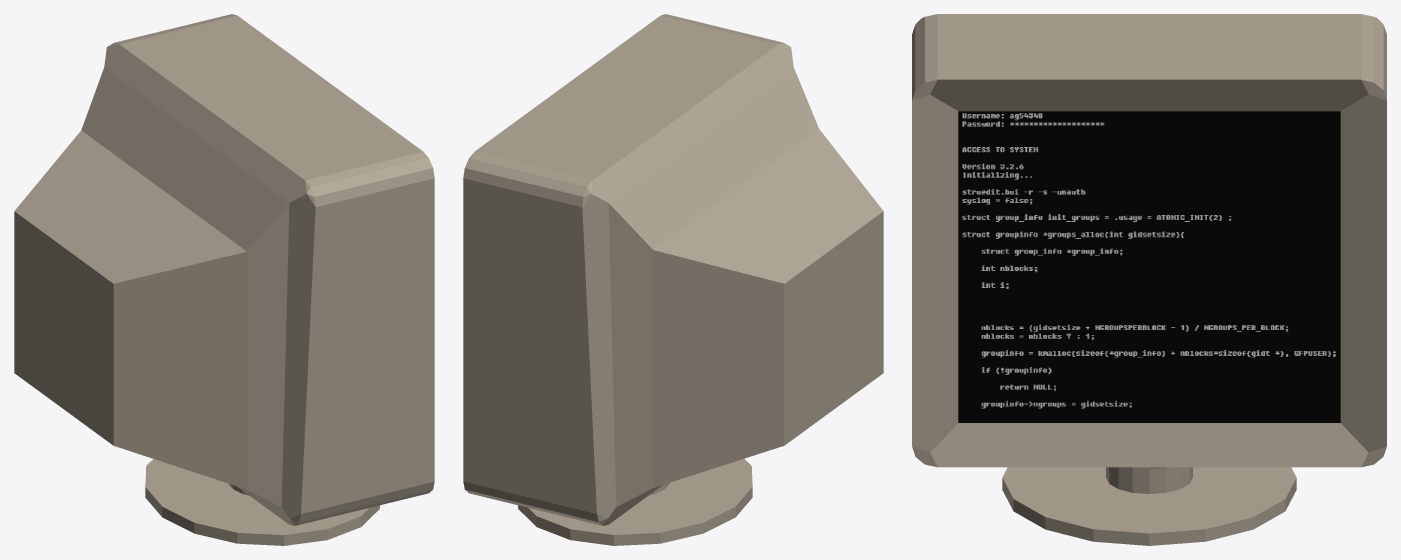
File: crt_monitor.fbx
3 views of the same model, side by side, from view 1: azimuth 30°, elevation 25°; view 2: azimuth 150°, elevation 25°; view 3: azimuth 270°, elevation 25° (orthographic). The views are drawn at different scales.
Visible parts, largest first — view 1: Monitor; view 2: Monitor; view 3: Monitor.
Boxes of the visible parts, left/top/right/bottom form: Monitor: left=14, top=14, right=434, bottom=545; Monitor: left=463, top=14, right=883, bottom=545; Monitor: left=912, top=14, right=1386, bottom=545.
Bounding box in the file's own units: 185 × 231 × 222.
